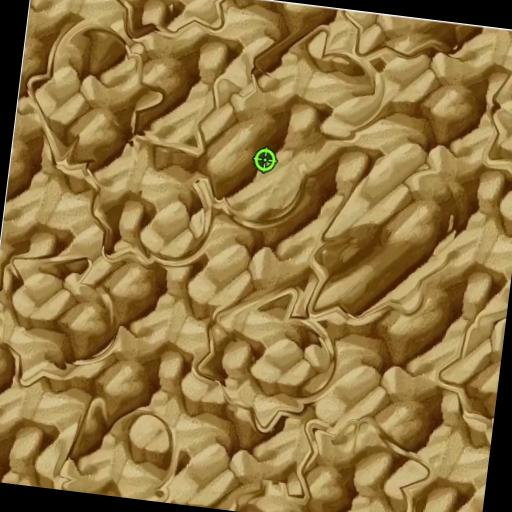Target: (14, 12, 176, 198), (178, 68, 336, 242), (188, 272, 348, 442), (76, 126, 229, 282), (238, 14, 397, 156), (300, 209, 458, 346), (0, 247, 129, 401), (290, 405, 439, 512), (54, 389, 188, 504), (428, 307, 506, 442), (326, 10, 468, 74), (100, 0, 233, 54), (475, 52, 512, 189)
